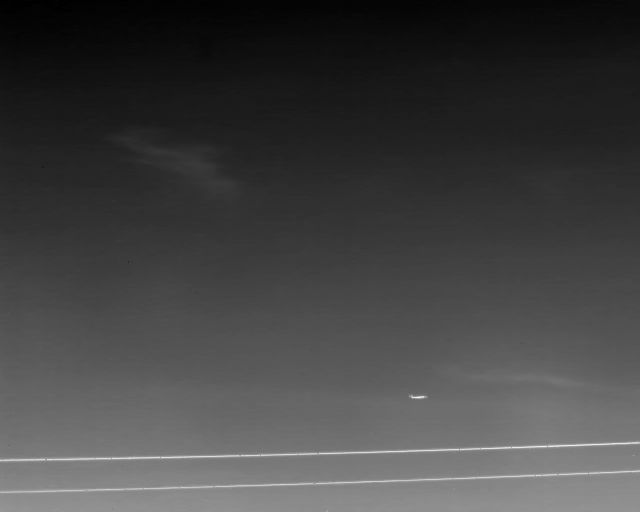Target: (409, 395, 429, 401)
